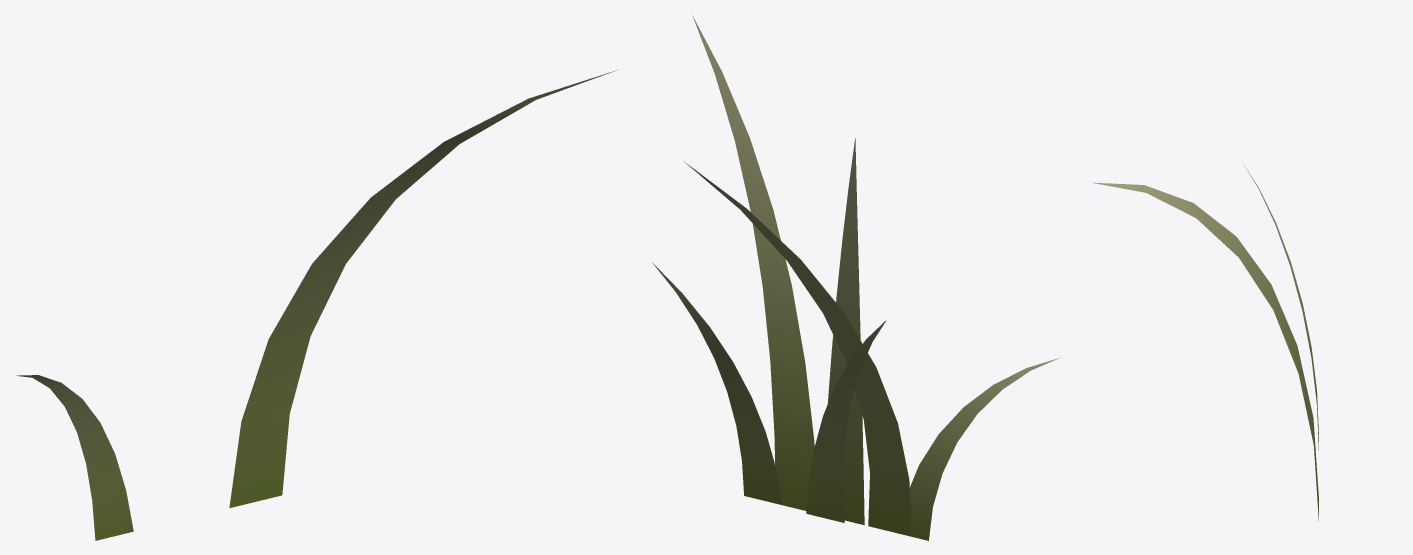
Rendered from GrassClump01.glb.
3 views of the same model, side by side, from view 1: azimuth 30°, elevation 25°; view 2: azimuth 150°, elevation 25°; view 3: azimuth 270°, elevation 25° (orthographic). The views are drawn at different scales.
Visible parts, largest first — view 1: GrassClump; view 2: GrassClump; view 3: GrassClump.
Boxes of the visible parts, x1=… form: GrassClump: x1=16, y1=69, x2=618, y2=540; GrassClump: x1=652, y1=15, x2=1059, y2=540; GrassClump: x1=1092, y1=164, x2=1318, y2=520.
Bounding box in the file's own units: 0.9911 × 0.8511 × 0.5157.
